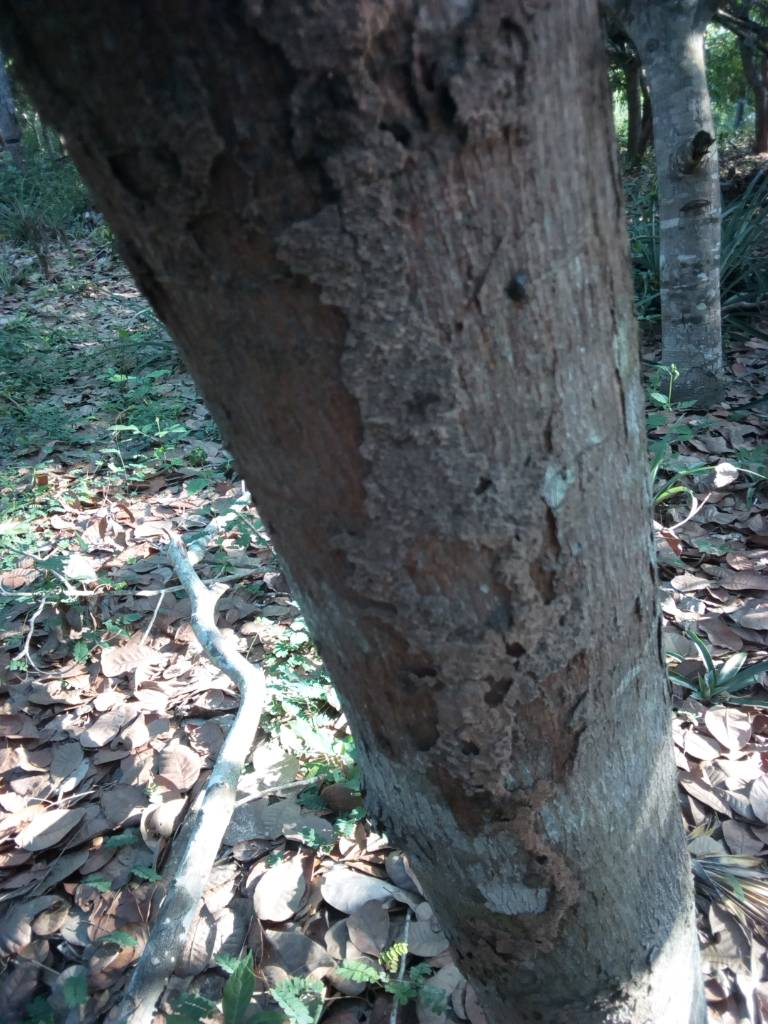Termites: (333, 25, 668, 971)
